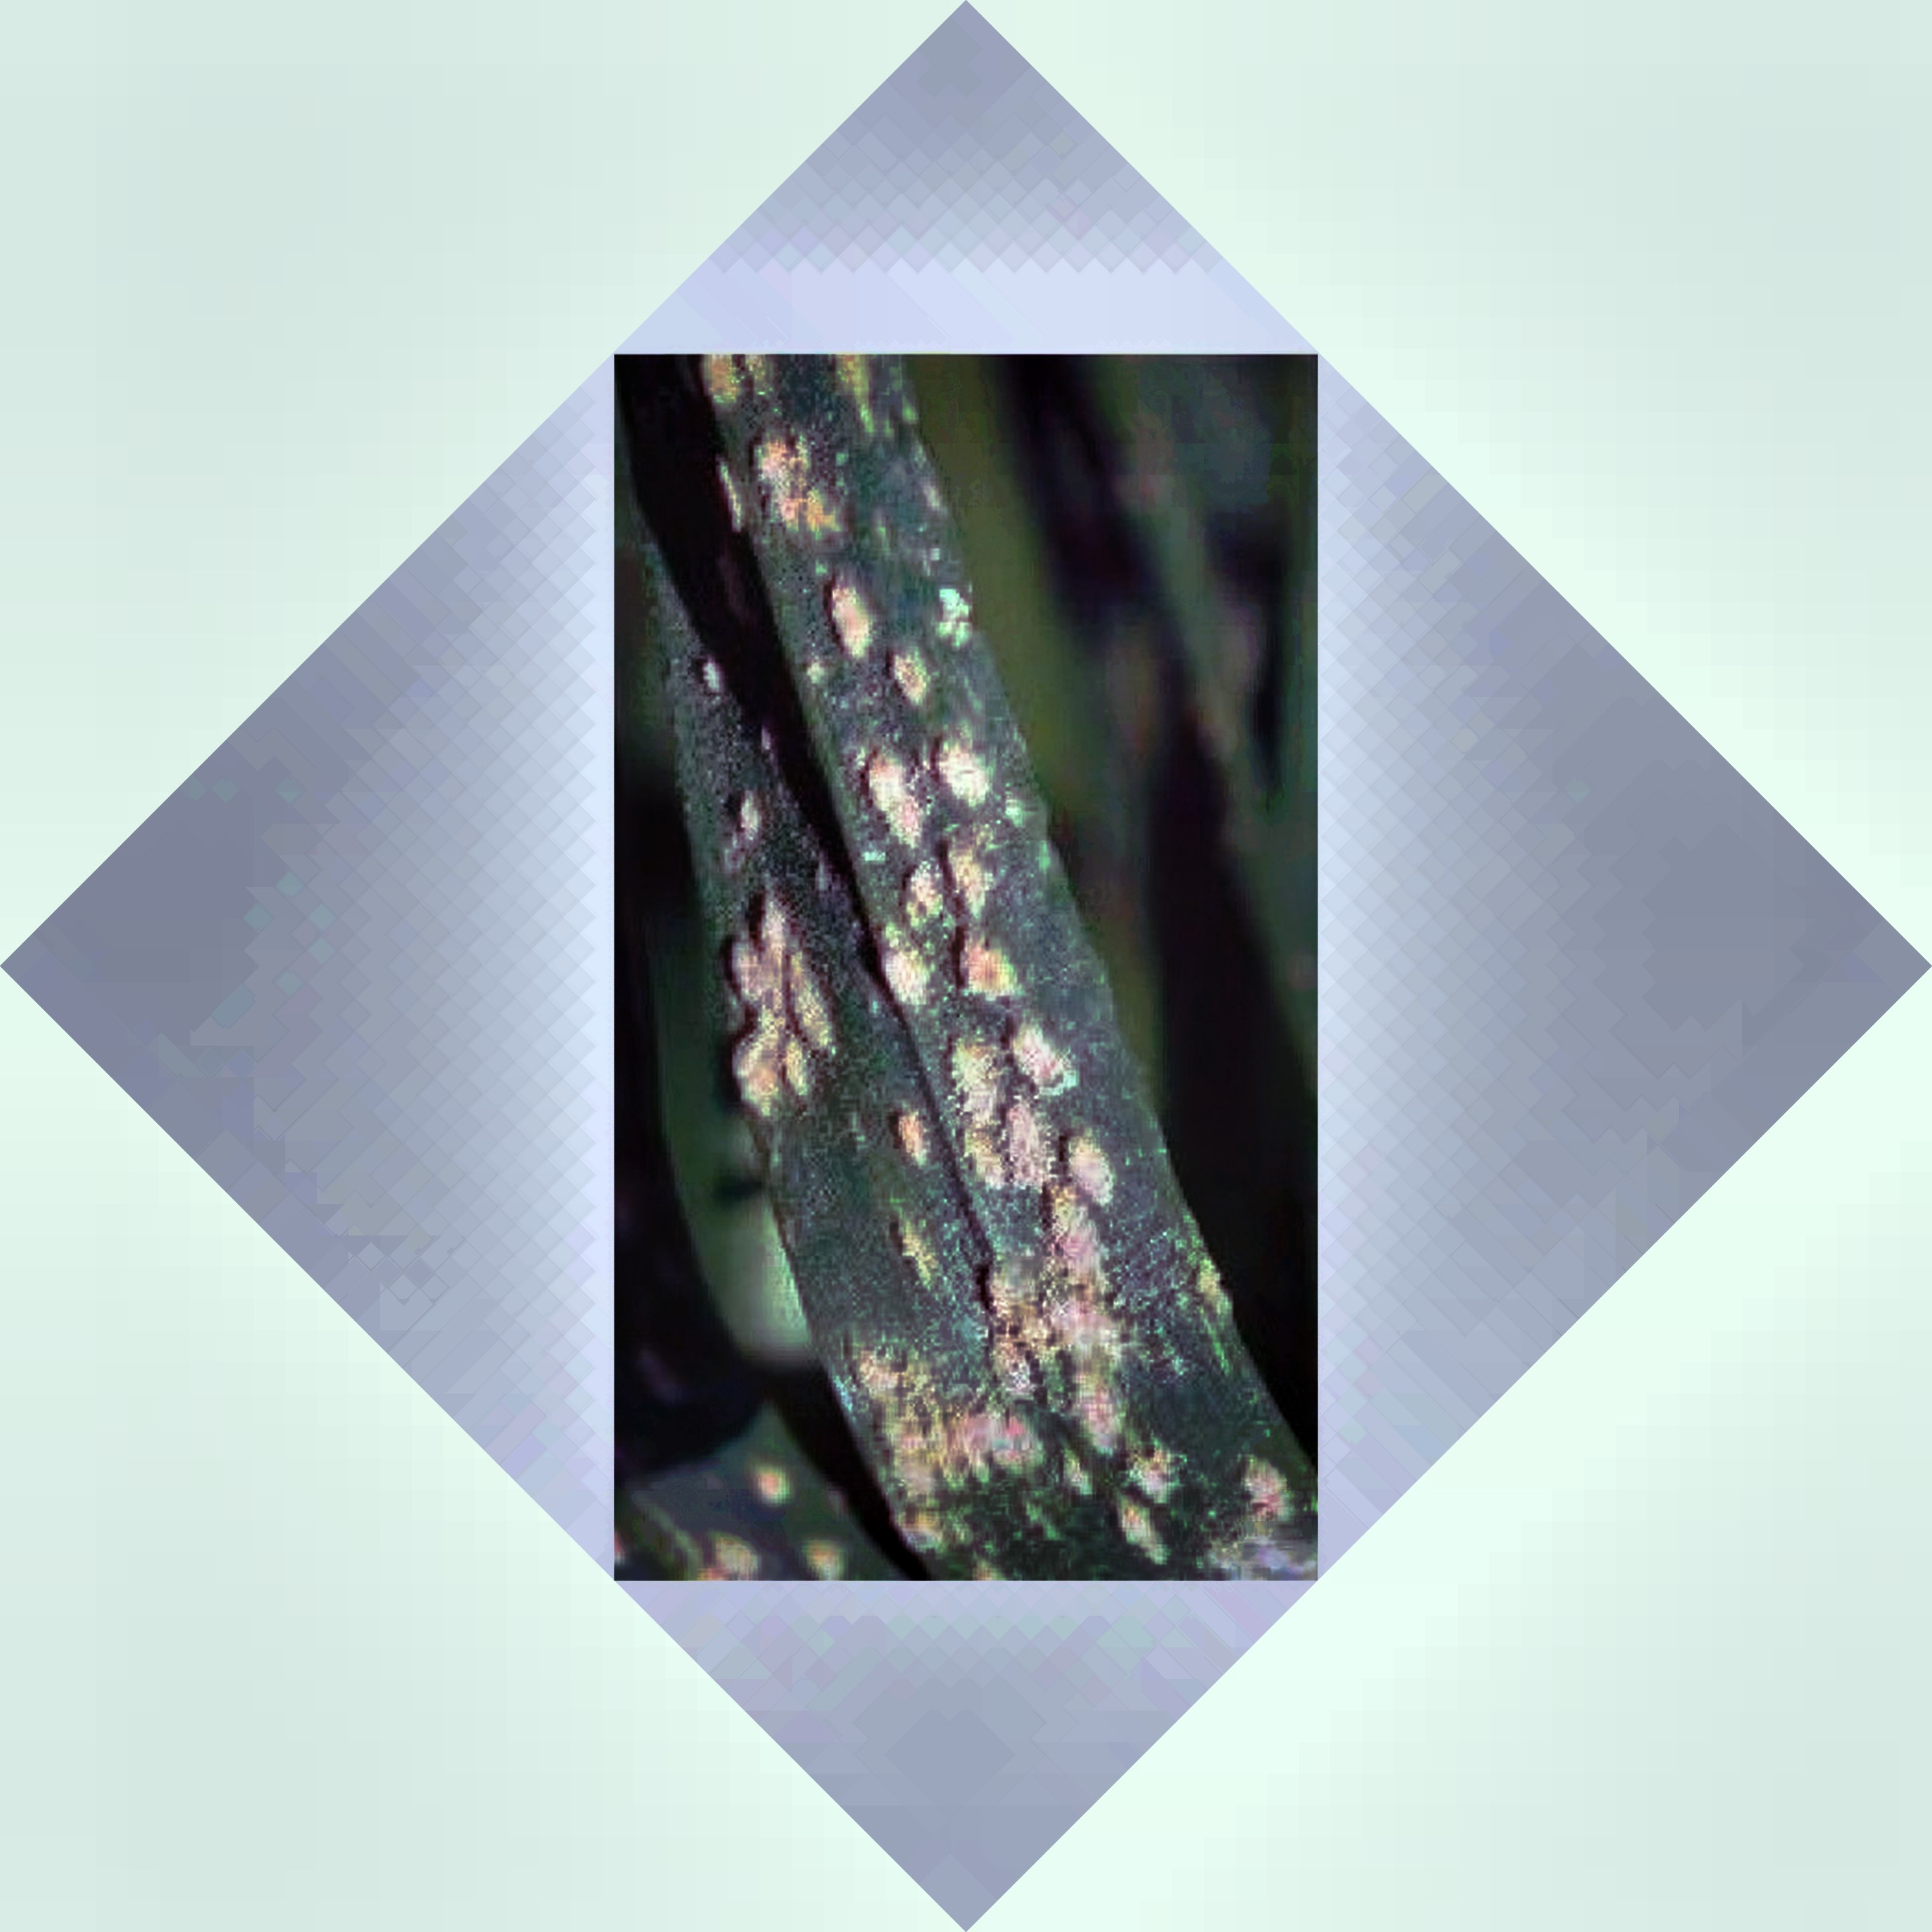Powdery Mildew: (642, 402, 1238, 1470)
